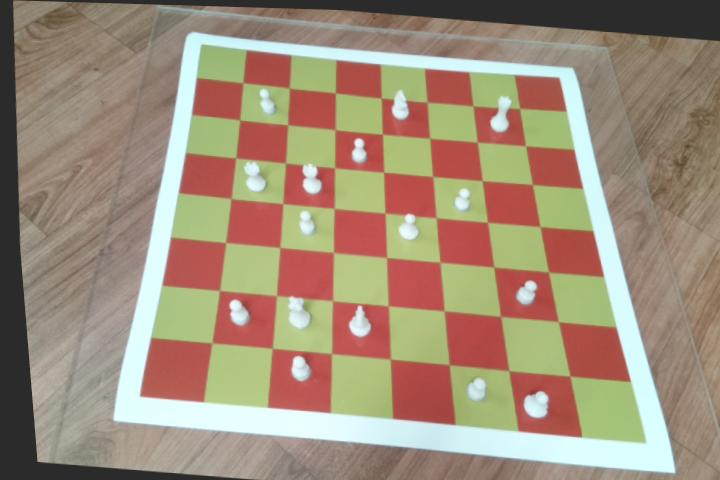chessboard-detect: (132, 40, 638, 437)
